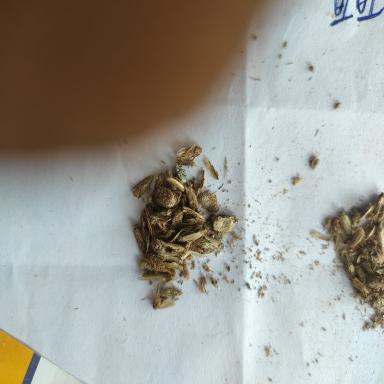pbw: (153, 283, 177, 309), (182, 183, 202, 212), (181, 237, 206, 260), (349, 275, 372, 298), (138, 260, 179, 272), (156, 186, 178, 208), (133, 176, 154, 198), (130, 224, 145, 254), (176, 144, 203, 160), (144, 203, 156, 238), (198, 192, 218, 213), (371, 192, 384, 224), (182, 206, 205, 224), (152, 239, 179, 254), (204, 214, 222, 235), (171, 210, 192, 228), (173, 156, 187, 182), (212, 216, 236, 231), (348, 226, 365, 247), (340, 249, 354, 274), (178, 229, 207, 241), (144, 253, 166, 268), (205, 156, 218, 180), (152, 267, 176, 280), (153, 172, 164, 200), (140, 208, 151, 236), (164, 229, 182, 246), (357, 203, 373, 221), (166, 176, 184, 192), (201, 236, 223, 249), (149, 208, 172, 220), (339, 214, 352, 235), (165, 168, 177, 190), (368, 252, 384, 268), (136, 272, 166, 280), (160, 260, 184, 270), (356, 264, 370, 280), (310, 231, 330, 242), (178, 158, 198, 168), (144, 231, 152, 256), (166, 242, 184, 253), (370, 275, 384, 289), (366, 224, 378, 240), (159, 287, 183, 295), (332, 218, 339, 244), (376, 228, 384, 250), (197, 170, 204, 195), (146, 195, 155, 214), (152, 216, 172, 224), (161, 229, 172, 242), (194, 279, 204, 293), (356, 253, 367, 264), (154, 226, 170, 232), (162, 256, 180, 261), (201, 248, 214, 254), (310, 155, 316, 167), (294, 176, 301, 186), (313, 158, 318, 170), (172, 250, 186, 254)
